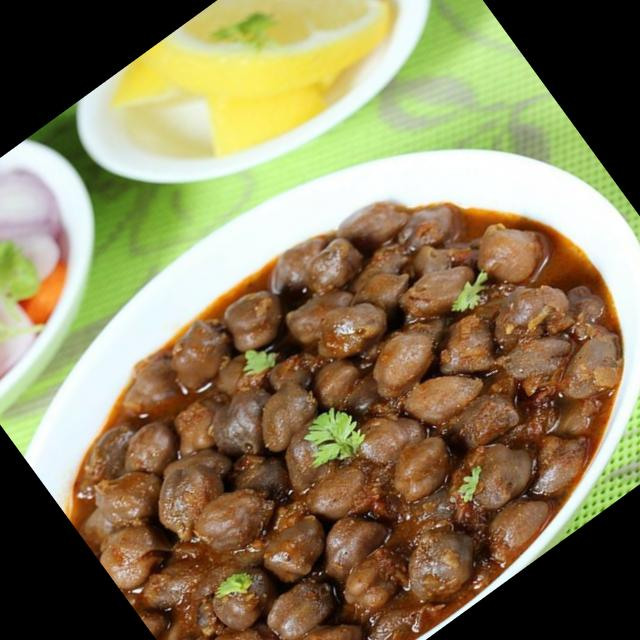Chole: (16, 112, 640, 640)
